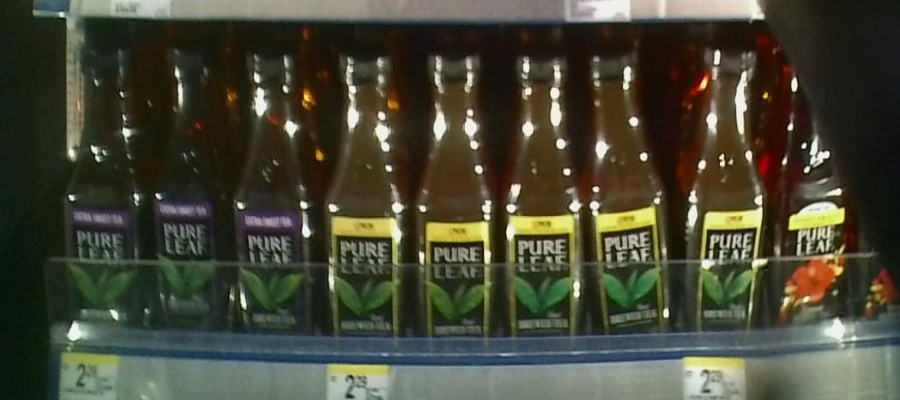bottle: (323, 50, 415, 351), (231, 50, 321, 350), (679, 43, 764, 347), (587, 54, 674, 349), (145, 43, 227, 349), (62, 40, 143, 343), (504, 52, 585, 348), (421, 54, 500, 352)
